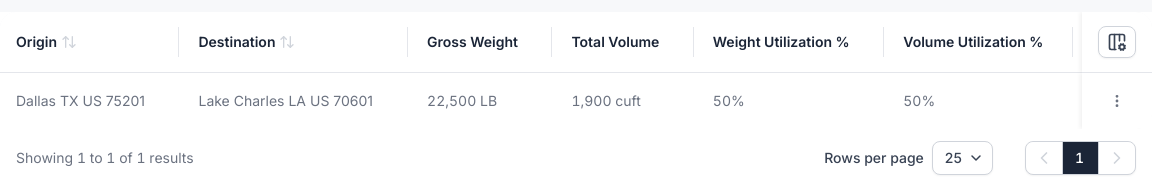
Test case: Total Volume + utilization columns (V2, Ramesh #4/#5) › the utilization cell says its capacities are placeholders
Hover over the 1st element showing "50%".
mouse_move(729, 101)  # box [713,91,745,111]
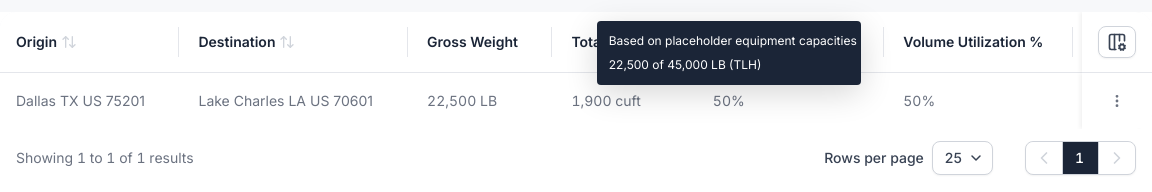
Check: the text "Based on placeholder equipment capacities" is shown, box [609,33,857,49]
Check: the text "22,500 of 45,000 LB (TLH)" is shown, box [609,57,761,72]
